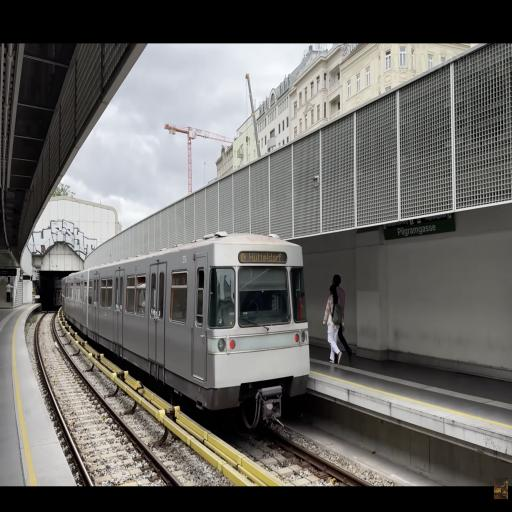Silberpfeil: (60, 230, 314, 418)
